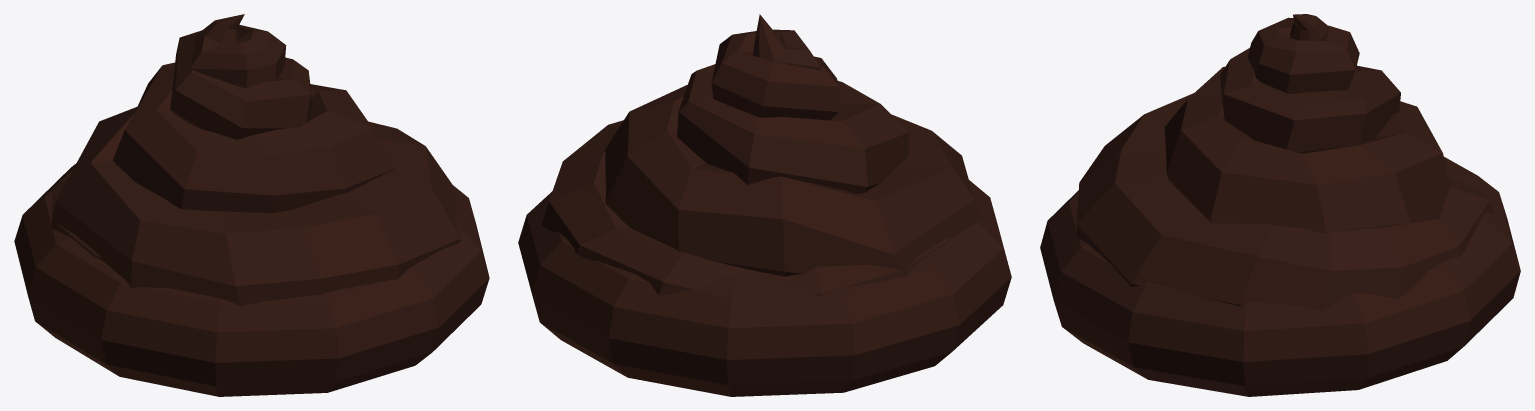
3 renders of one model, left to right at view 1: azimuth 30°, elevation 25°; view 2: azimuth 150°, elevation 25°; view 3: azimuth 270°, elevation 25°, orthographic. The views are drawn at different scales.
Parts seen in each view (by area): view 1: group1888406042; view 2: group1888406042; view 3: group1888406042.
Part boxes in pixels (x1,y1,x2,y2): group1888406042: (14,14,489,396); group1888406042: (518,14,1011,396); group1888406042: (1040,14,1520,396).
Bounding box in the file's own units: 0.26 × 0.1861 × 0.26.
